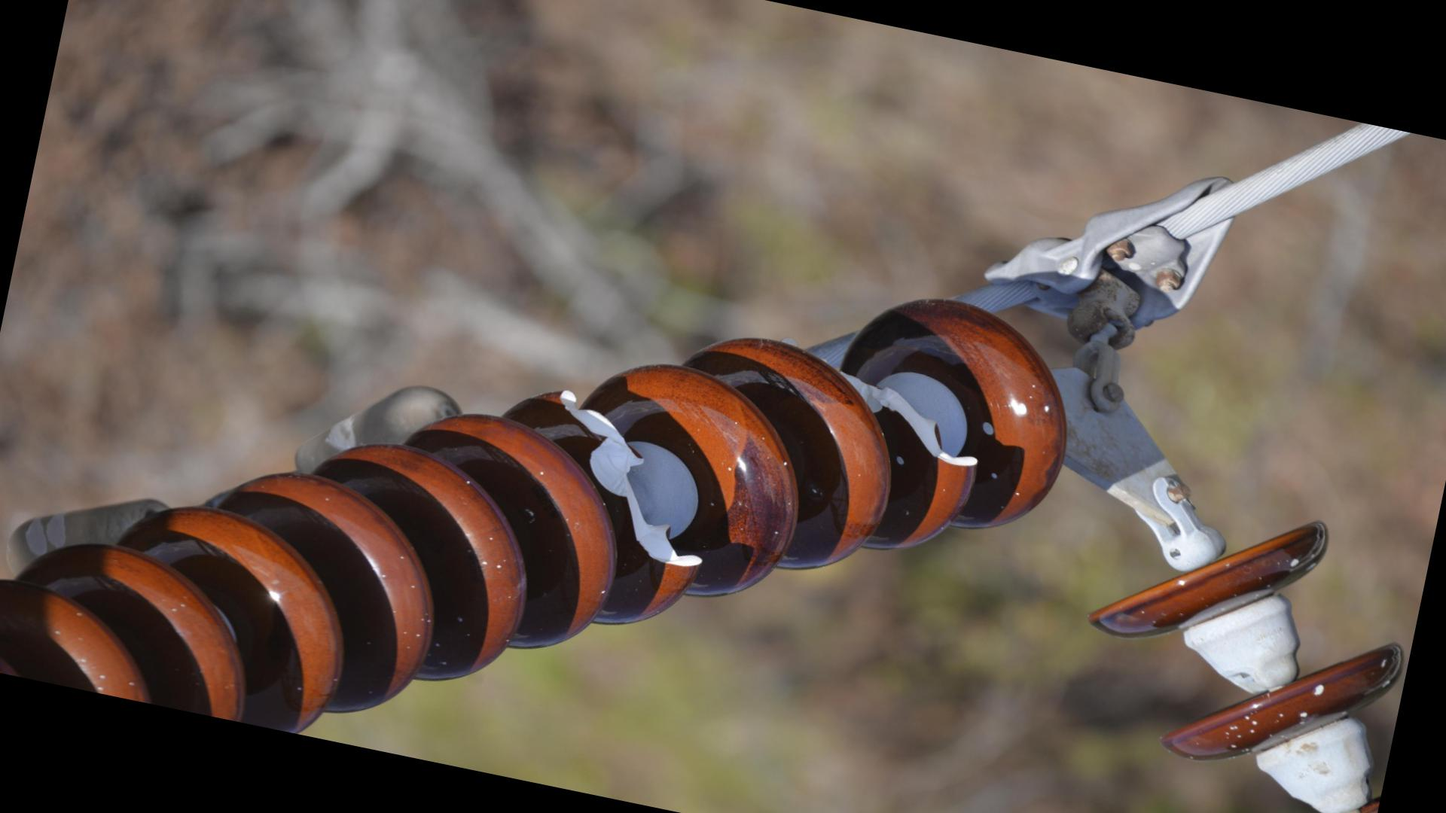damper: (1, 299, 476, 663)
